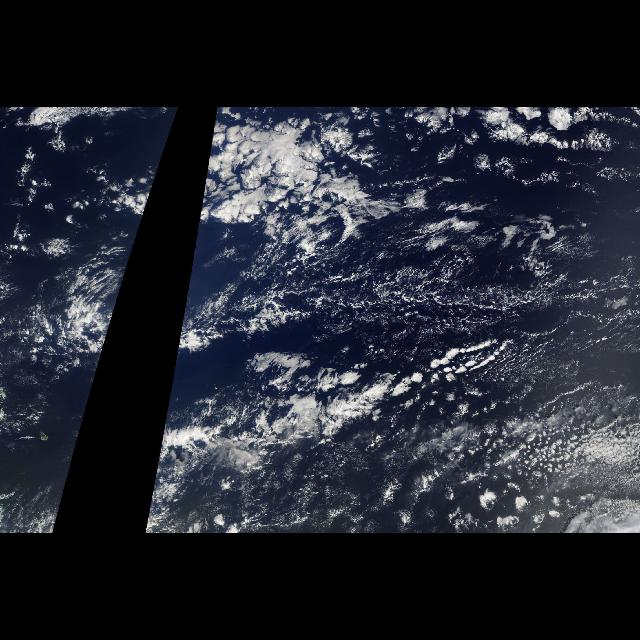Sugar: (376, 220, 634, 416)
